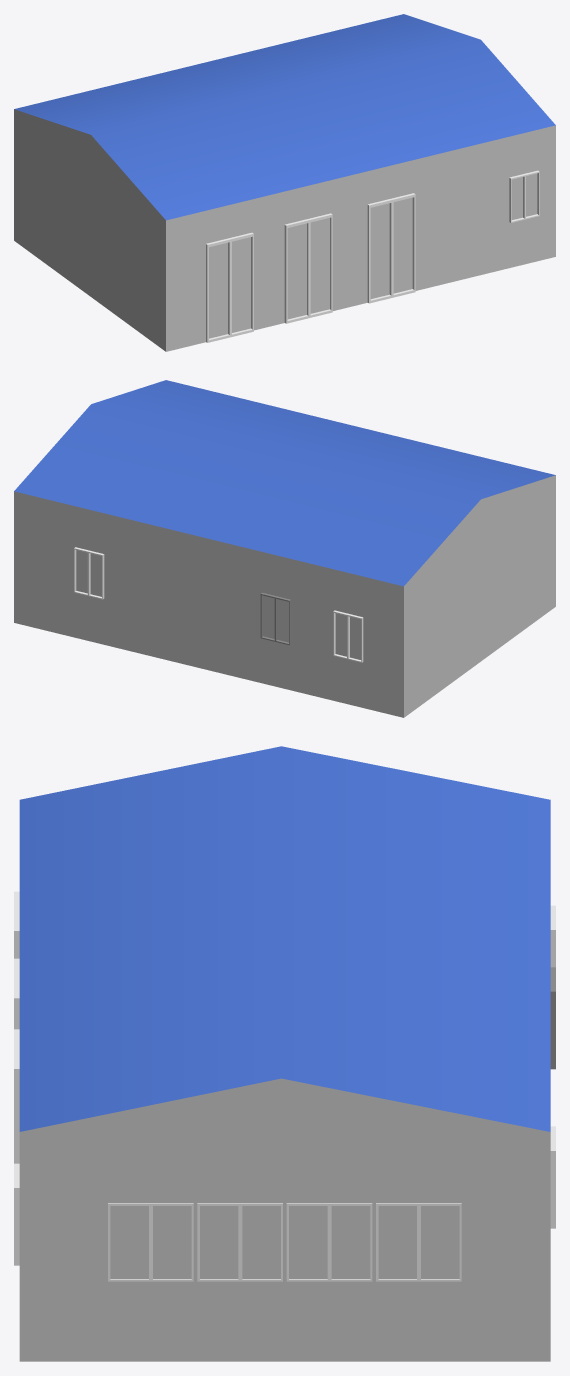
Rendered from fang9.dae.
3 renders of one model, top to bottom at view 1: azimuth 30°, elevation 25°; view 2: azimuth 150°, elevation 25°; view 3: azimuth 270°, elevation 25°, orthographic. The views are drawn at different scales.
Visible parts, largest first — view 1: pCube8, pasted__pasted__pasted__pasted__pasted__pasted__pCube3_paste (×2), pasted__pasted__pasted__pasted__pasted__pCube3_pasted__paste, pasted__pasted__pasted__pasted__pasted__pasted__pasted__pCub; view 2: pCube8, pasted__pasted__pasted__pasted__pasted__pasted__pCube3_paste (×2), pasted__pasted__pasted__pasted__pasted__pCube3_pasted__paste; view 3: pCube8, pasted__pasted__pasted__pasted__pasted__pCube3_pasted__paste (×3), pasted__pasted__pasted__pasted__pCube3_pasted__pasted__paste, group46_pasted__pasted__pasted__pasted__pasted__pasted__pCub.
Part boxes in pixels (<box>): pCube8: <box>14,14,555,351</box>; pasted__pasted__pasted__pasted__pasted__pasted__pCube3_paste (×2): <box>206,213,332,342</box>; pasted__pasted__pasted__pasted__pasted__pCube3_pasted__paste: <box>367,193,415,303</box>; pasted__pasted__pasted__pasted__pasted__pasted__pasted__pCub: <box>509,170,539,222</box>; pCube8: <box>14,380,555,717</box>; pasted__pasted__pasted__pasted__pasted__pasted__pCube3_paste (×2): <box>74,547,290,645</box>; pasted__pasted__pasted__pasted__pasted__pCube3_pasted__paste: <box>333,610,363,662</box>; pCube8: <box>19,746,550,1361</box>; pasted__pasted__pasted__pasted__pasted__pCube3_pasted__paste (×3): <box>14,1029,461,1281</box>; pasted__pasted__pasted__pasted__pCube3_pasted__pasted__paste: <box>286,1203,372,1281</box>; group46_pasted__pasted__pasted__pasted__pasted__pasted__pCub: <box>197,1203,282,1281</box>.
Size of the model in its own units: 0.00361 by 0.00143 by 0.00248.
